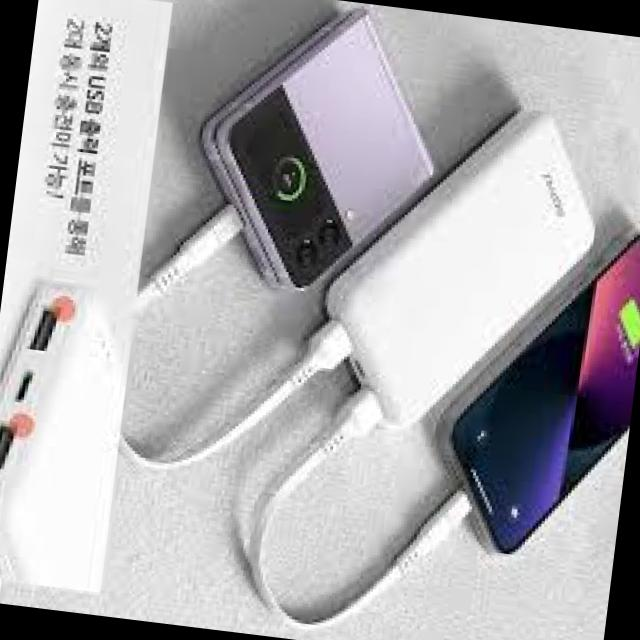power_bank: (308, 84, 608, 457)
